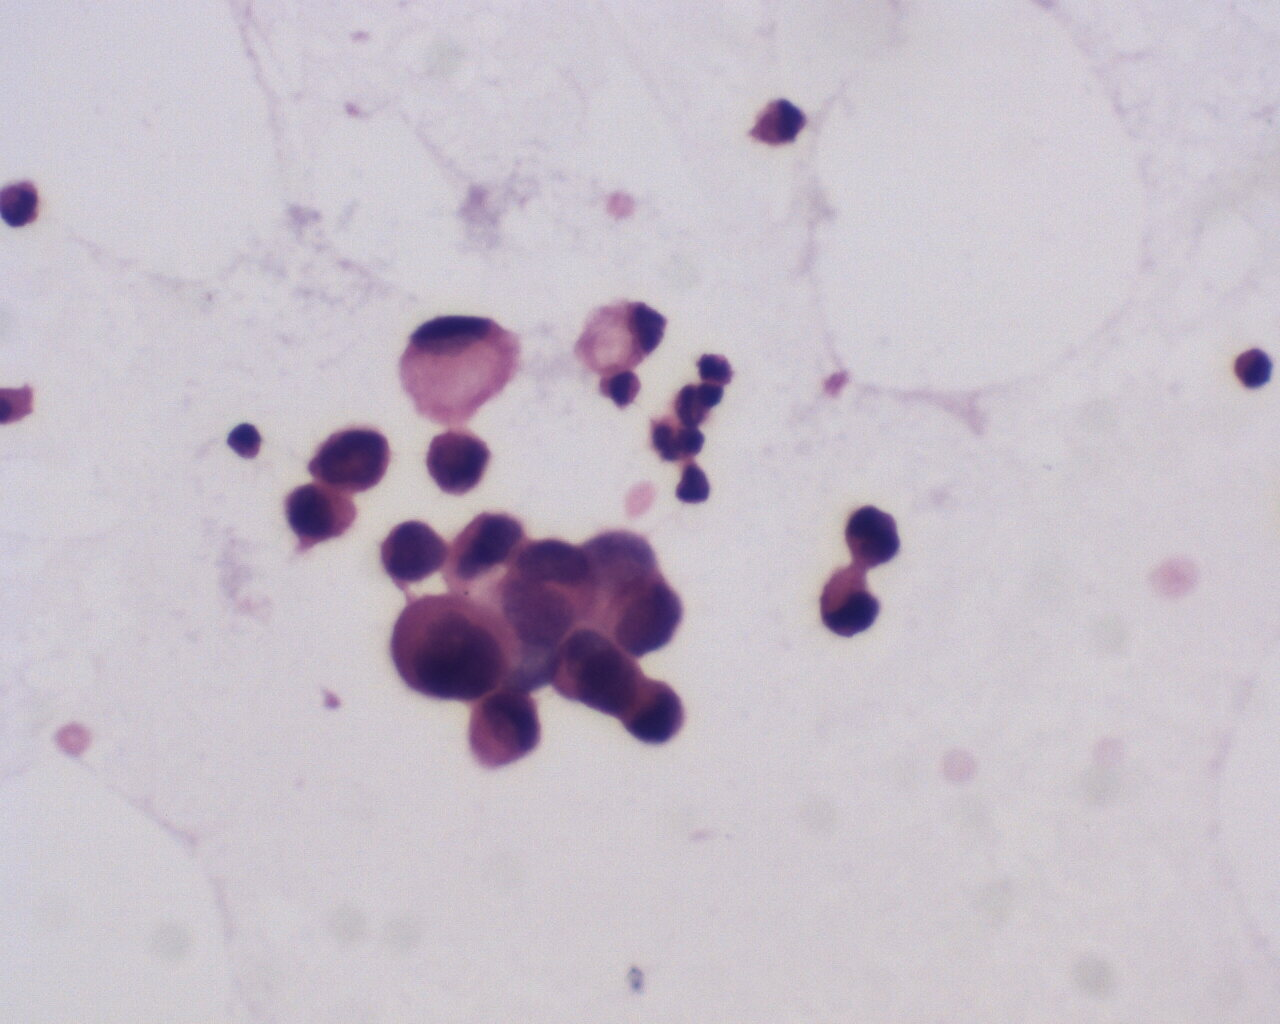ab: (385, 594, 517, 700), (457, 696, 559, 774), (600, 567, 686, 659), (311, 418, 394, 499), (279, 479, 359, 552), (419, 429, 496, 499), (375, 515, 448, 588), (624, 671, 690, 751), (813, 567, 882, 644), (841, 497, 907, 571)
histo: (396, 313, 528, 428)
